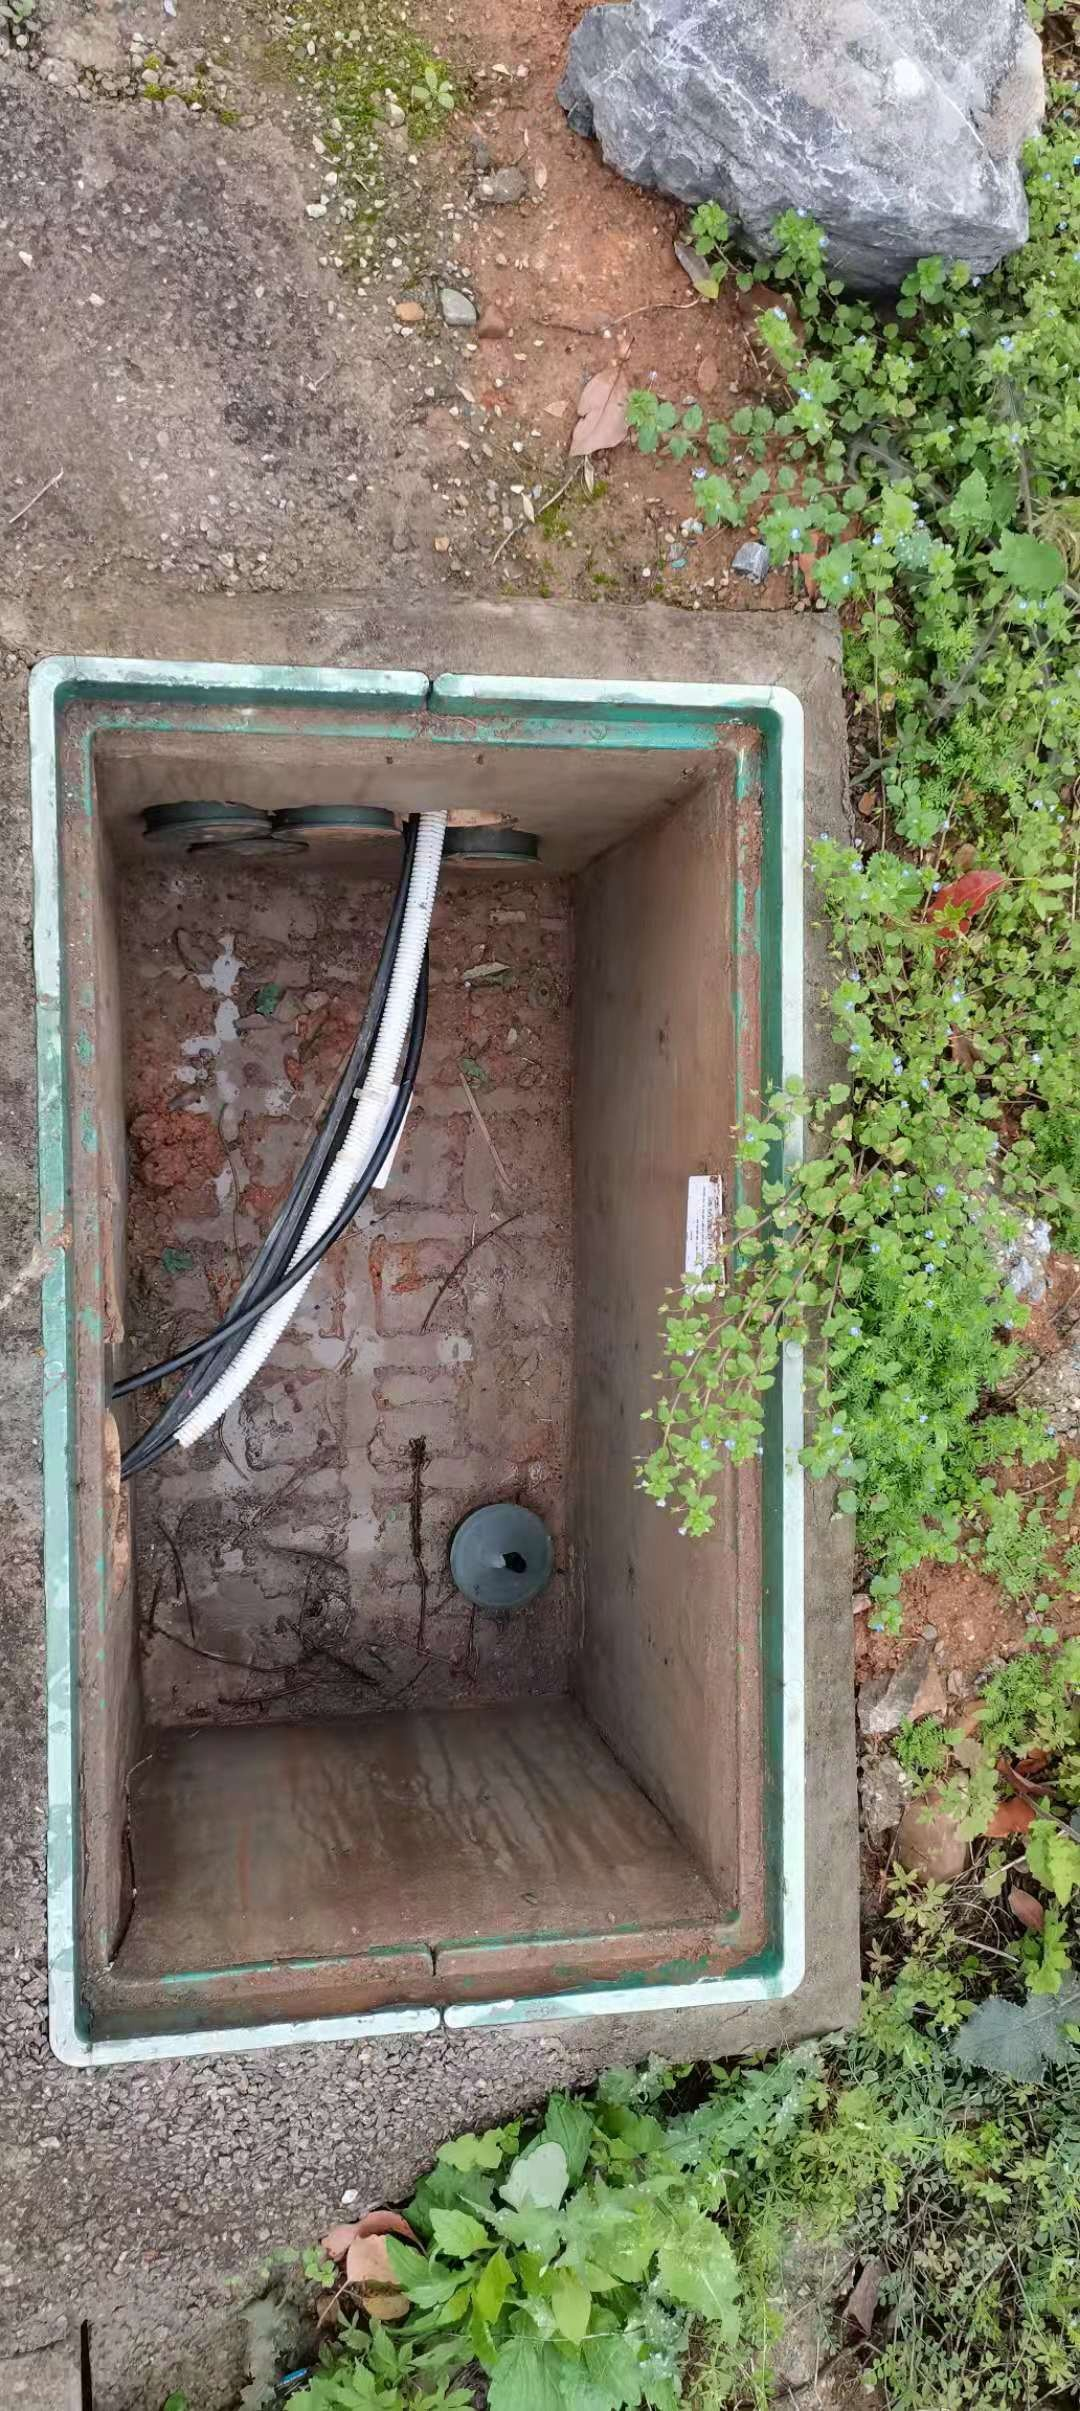lose: (28, 650, 806, 2073)
